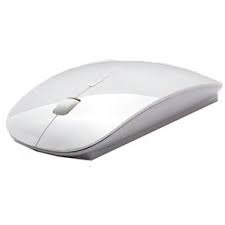mouse: (1, 31, 225, 175)
